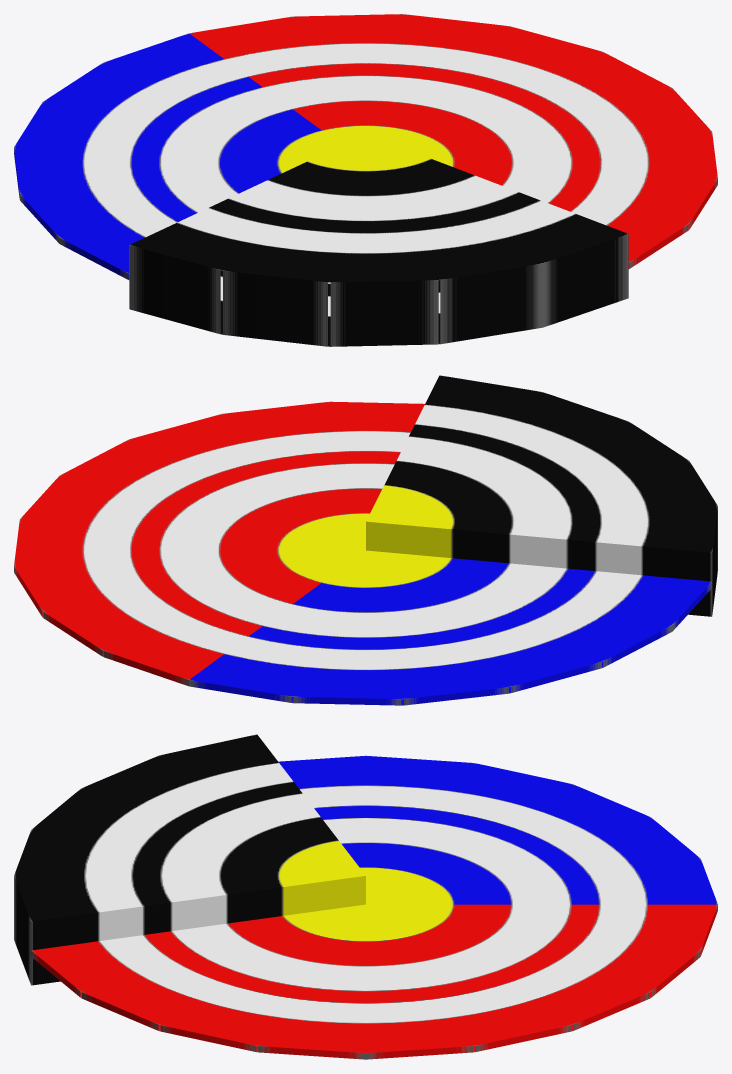
File: MatoMaterial.fbx
3 renders of one model, top to bottom at view 1: azimuth 30°, elevation 25°; view 2: azimuth 150°, elevation 25°; view 3: azimuth 270°, elevation 25°, orthographic.
Visible parts, largest first — view 1: polySurface4, polySurface3, polySurface2; view 2: polySurface3, polySurface2, polySurface4; view 3: polySurface3, polySurface4, polySurface2.
Boxes of the visible parts, bbox=[...] form: polySurface4: bbox=[129, 134, 628, 346]; polySurface3: bbox=[189, 14, 717, 268]; polySurface2: bbox=[14, 33, 341, 280]; polySurface3: bbox=[14, 401, 424, 686]; polySurface2: bbox=[189, 550, 711, 705]; polySurface4: bbox=[366, 375, 717, 616]; polySurface3: bbox=[31, 904, 717, 1059]; polySurface4: bbox=[14, 734, 365, 985]; polySurface2: bbox=[278, 755, 717, 904].
Size of the model in its own units: 2 by 0.2 by 2.
Materials: 3 (3 with a texture image).
